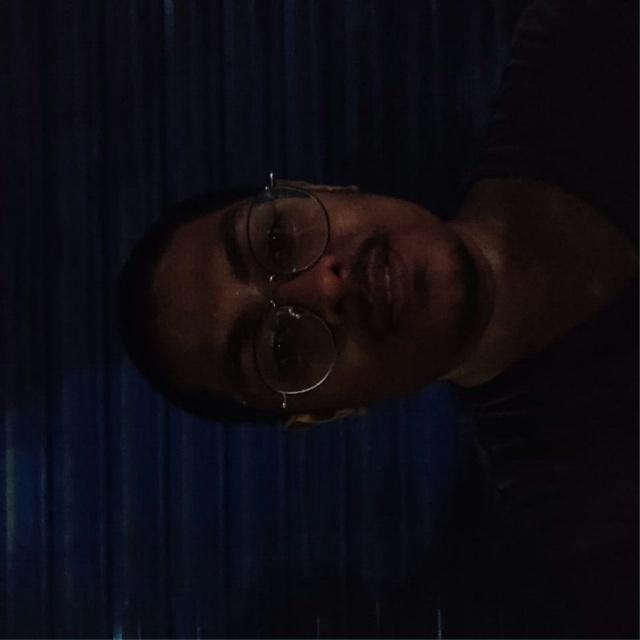Natural: (137, 163, 529, 442)
